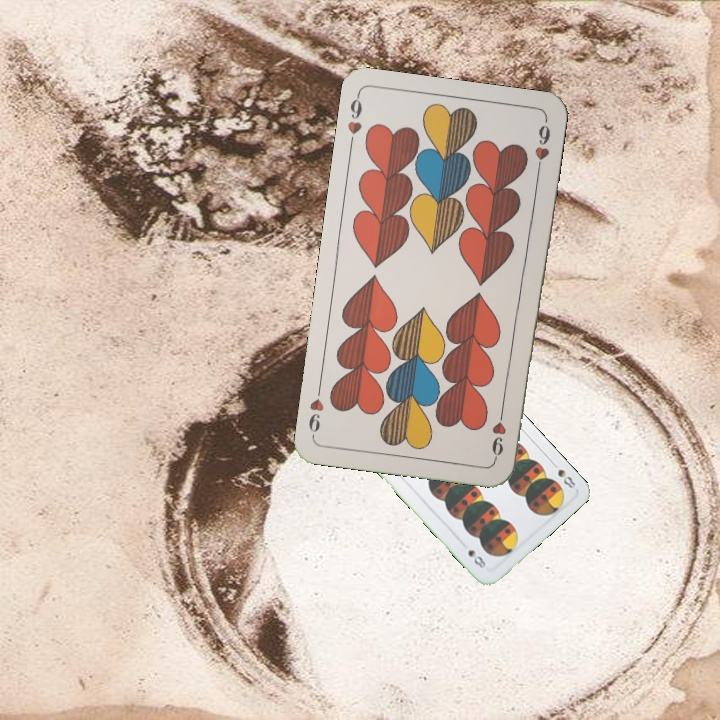H9: (487, 403, 509, 462), (343, 91, 365, 150)
S8: (547, 457, 578, 491)
